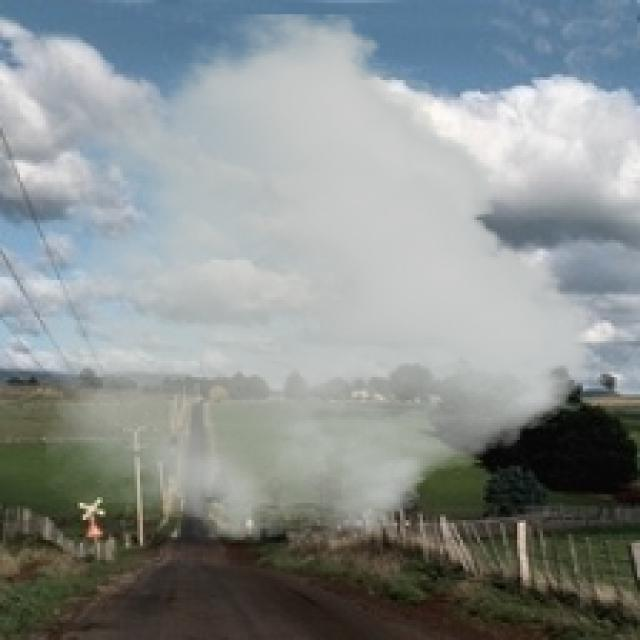smoke: (46, 14, 588, 543)
